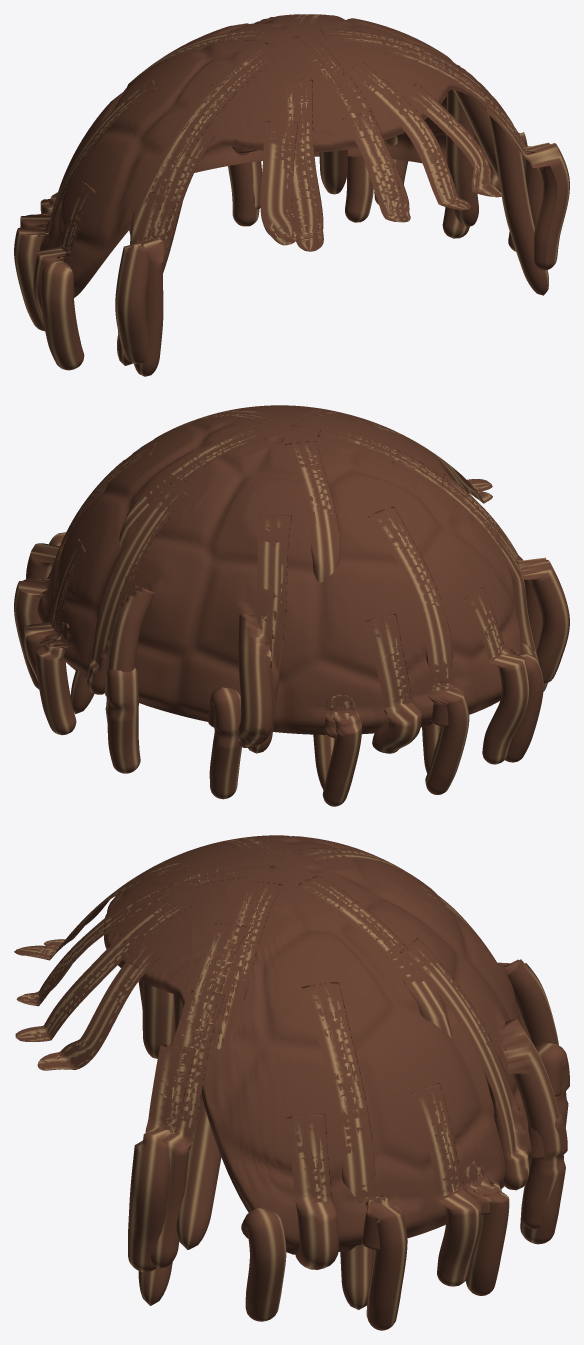
The model's file is Highlights-66e3ad10b2f8252-hair.glb.
3 views of the same model, one above another, from view 1: azimuth 30°, elevation 25°; view 2: azimuth 150°, elevation 25°; view 3: azimuth 270°, elevation 25° (orthographic). The views are drawn at different scales.
Parts seen in each view (by area): view 1: 226 hair / Hair252 / sectioned locs.001; view 2: 226 hair / Hair252 / sectioned locs.001; view 3: 226 hair / Hair252 / sectioned locs.001.
Part boxes in pixels (<box>): 226 hair / Hair252 / sectioned locs.001: <box>14,14,569,376</box>; 226 hair / Hair252 / sectioned locs.001: <box>14,405,569,806</box>; 226 hair / Hair252 / sectioned locs.001: <box>14,835,569,1330</box>.
Bounding box in the file's own units: 1.1 × 0.5946 × 0.8762.
Materials: 1 (1 with a texture image).
